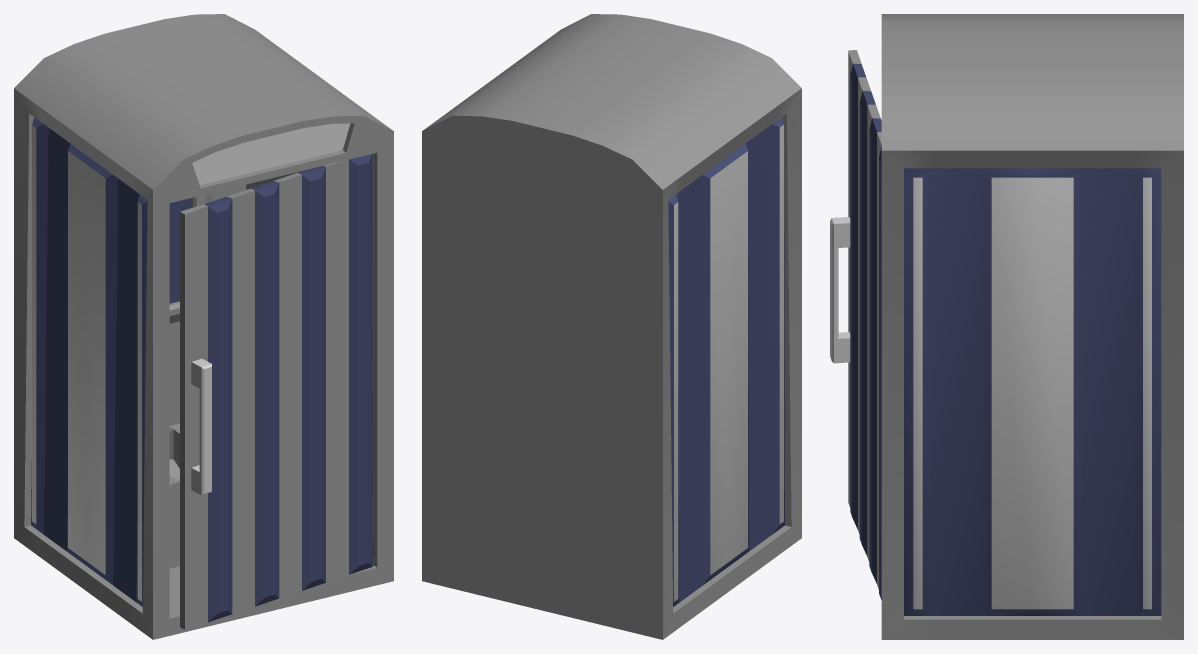
The model's file is toilet.FBX.
The picture shows the model from 3 angles, left to right: view 1: azimuth 30°, elevation 25°; view 2: azimuth 150°, elevation 25°; view 3: azimuth 270°, elevation 25°; orthographic projection. The views are drawn at different scales.
Parts seen in each view (by area): view 1: toilet, toilet deur, deurhendel, shithole; view 2: toilet; view 3: toilet, toilet deur, deurhendel.
Boxes of the visible parts, x1,y1,x2,y2 form: toilet: (14,14,393,639); toilet deur: (180,153,373,629); deurhendel: (191,358,211,495); shithole: (169,423,179,568); toilet: (422,14,801,639); toilet: (881,14,1183,639); toilet deur: (848,50,881,599); deurhendel: (830,217,850,363).
Bounding box in the file's own units: 140 × 269 × 164.
